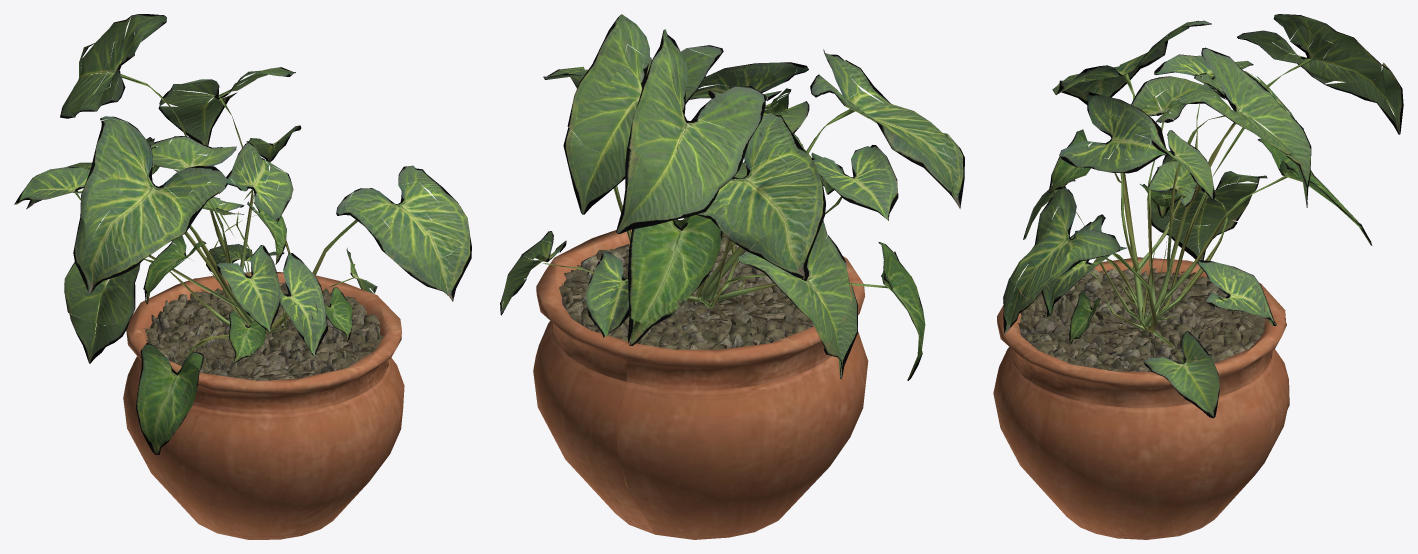
Rendered from houseplant.glb.
3 renders of one model, left to right at view 1: azimuth 30°, elevation 25°; view 2: azimuth 150°, elevation 25°; view 3: azimuth 270°, elevation 25°, orthographic. The views are drawn at different scales.
Visible parts, largest first — view 1: potted_plant_02_pot; view 2: potted_plant_02_pot; view 3: potted_plant_02_pot.
Part boxes in pixels (x1,y1,x2,y2): potted_plant_02_pot: (14, 14, 471, 539); potted_plant_02_pot: (500, 14, 964, 539); potted_plant_02_pot: (993, 14, 1403, 539).
Bounding box in the file's own units: 0.7008 × 0.8423 × 0.6581.
Materials: 2 (2 with a texture image).
